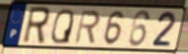2: (151, 10, 177, 50)
6: (128, 9, 151, 49), (103, 10, 125, 47)
Q: (50, 8, 75, 45)
R: (20, 6, 52, 46), (73, 9, 102, 45)
